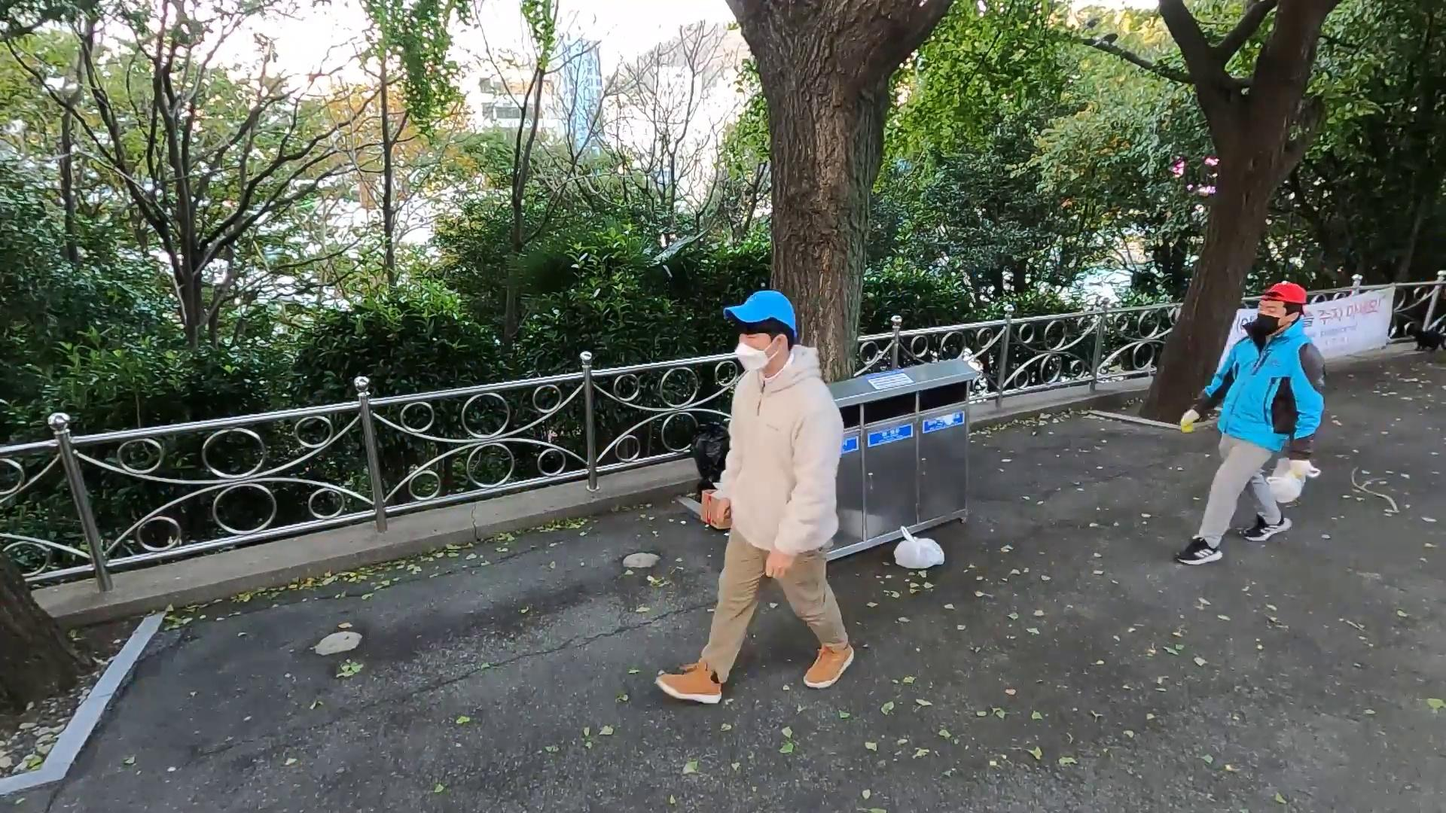person: (642, 288, 866, 708), (1171, 282, 1334, 571)
trash: (688, 420, 733, 501), (886, 525, 948, 571), (1267, 456, 1321, 506), (697, 484, 735, 530)
